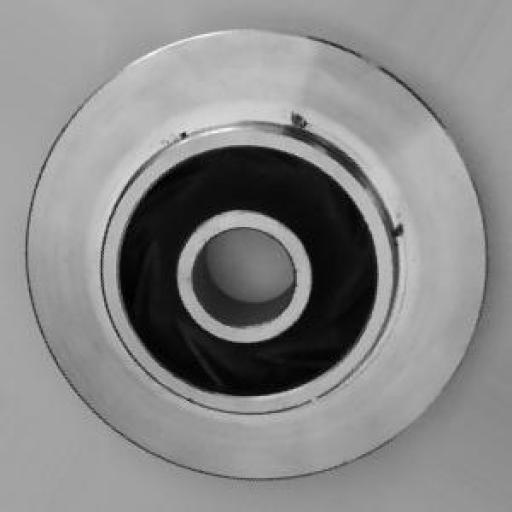defect: (146, 92, 444, 253)
